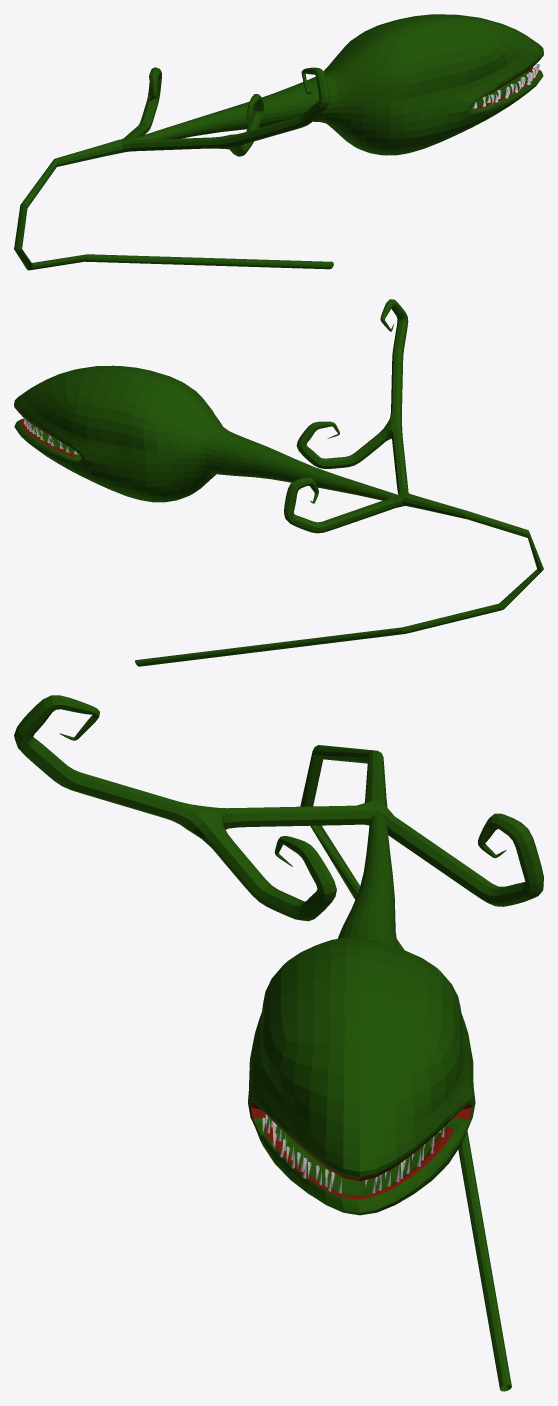
Rendered from plant.fbx.
3 views of the same model, one above another, from view 1: azimuth 30°, elevation 25°; view 2: azimuth 150°, elevation 25°; view 3: azimuth 270°, elevation 25° (orthographic). The views are drawn at different scales.
Visible parts, largest first — view 1: Cube.001; view 2: Cube.001; view 3: Cube.001, Teeth.
Boxes of the visible parts, <box> form: Cube.001: <box>14,14,543,270</box>; Cube.001: <box>14,299,543,666</box>; Cube.001: <box>14,695,543,1391</box>; Teeth: <box>266,1118,444,1193</box>.
Size of the model in its own units: 3926 by 2261 by 1882.
